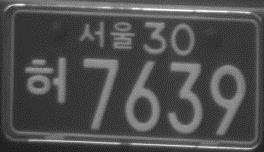0: (170, 21, 198, 58)
3: (166, 60, 203, 135), (142, 20, 168, 54)
6: (122, 59, 160, 132)
7: (81, 57, 120, 132)
9: (209, 63, 248, 138)
서울_O: (77, 19, 135, 50)
허: (24, 56, 68, 104)
